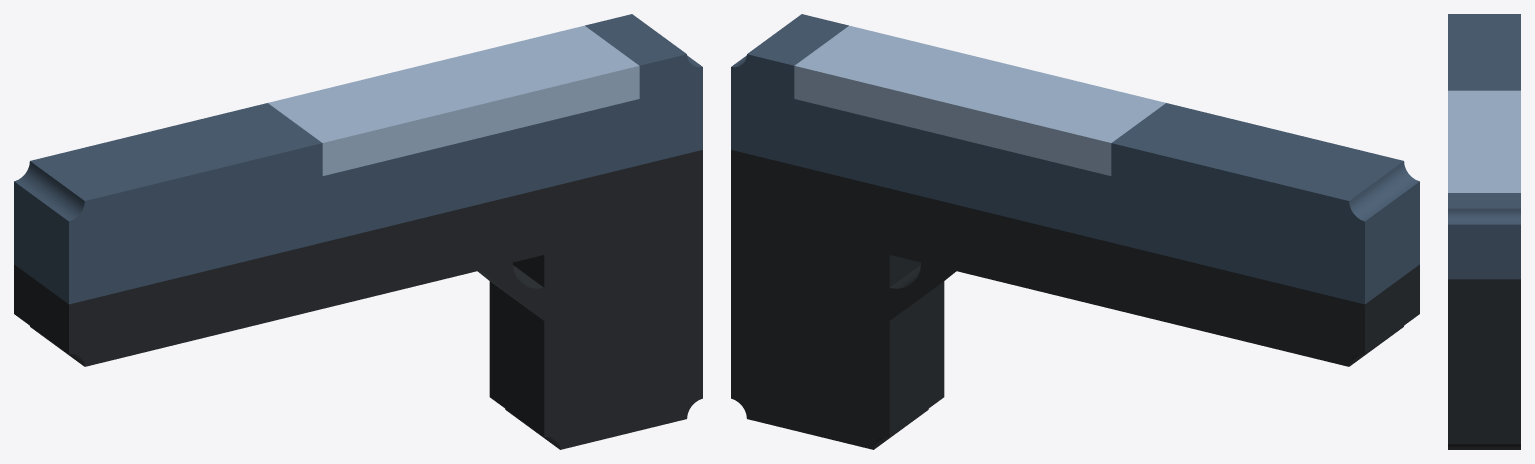
Rendered from Gun.fbx.
The picture shows the model from 3 angles, left to right: view 1: azimuth 30°, elevation 25°; view 2: azimuth 150°, elevation 25°; view 3: azimuth 270°, elevation 25°; orthographic projection. The views are drawn at different scales.
Visible parts, largest first — view 1: generated; view 2: generated; view 3: generated.
Part boxes in pixels (x1=…): generated: x1=14, y1=14, x2=702, y2=449; generated: x1=731, y1=14, x2=1419, y2=449; generated: x1=1448, y1=14, x2=1520, y2=449.
Size of the model in its own units: 200 by 110 by 30.
